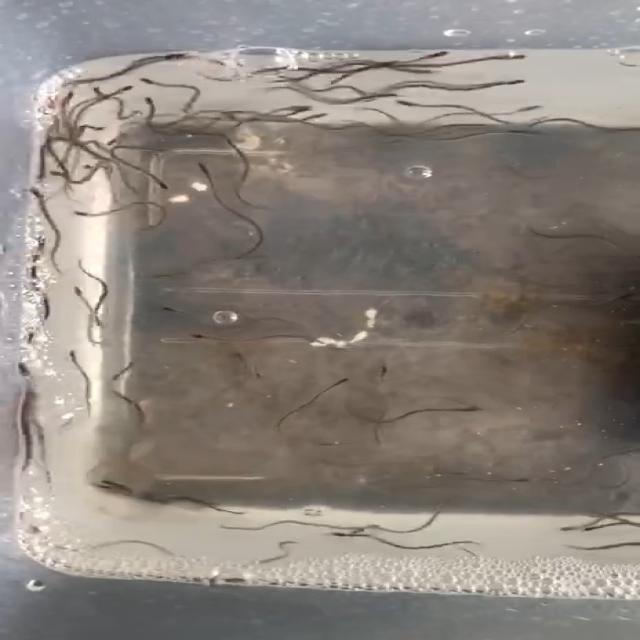inactive_glass_eel: (76, 477, 147, 495), (113, 356, 175, 376), (124, 298, 183, 318), (209, 346, 262, 367), (160, 47, 210, 68), (64, 205, 106, 229), (140, 174, 190, 194), (481, 48, 531, 66), (13, 240, 53, 262), (320, 526, 360, 546), (60, 274, 89, 301), (187, 154, 218, 179), (142, 267, 192, 282), (355, 88, 409, 101), (553, 522, 591, 540), (446, 403, 493, 417), (479, 75, 529, 88), (176, 324, 206, 345), (80, 81, 113, 100), (54, 349, 95, 364), (511, 100, 545, 118), (314, 371, 352, 387), (390, 99, 434, 112), (276, 101, 314, 115), (311, 112, 338, 128), (410, 49, 448, 60), (106, 82, 135, 96), (136, 72, 164, 84), (135, 96, 159, 110), (373, 367, 396, 381), (22, 186, 44, 200)
